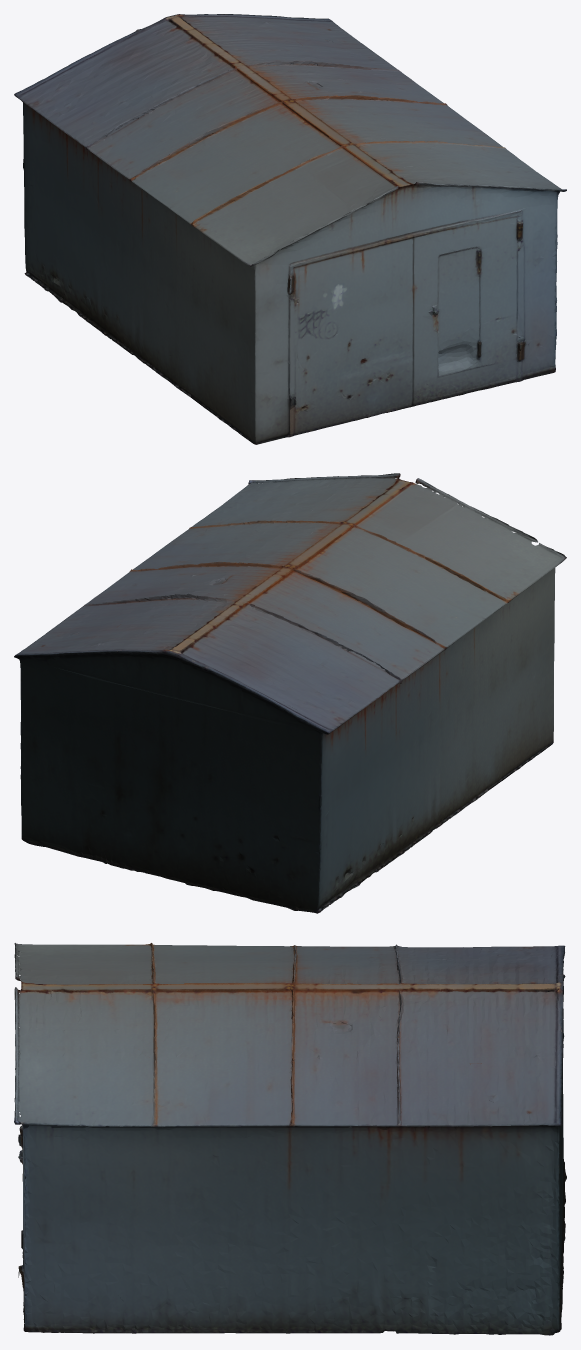
Rendered from Garaj_2.fbx.
3 views of the same model, one above another, from view 1: azimuth 30°, elevation 25°; view 2: azimuth 150°, elevation 25°; view 3: azimuth 270°, elevation 25° (orthographic). The views are drawn at different scales.
Parts seen in each view (by area): view 1: world.002; view 2: world.002; view 3: world.002.
Boxes of the visible parts, x1,y1,x2,y2 form: world.002: (14, 14, 566, 444); world.002: (14, 473, 566, 913); world.002: (14, 943, 566, 1335).
Size of the model in its own units: 76.24 by 53.01 by 99.3.
